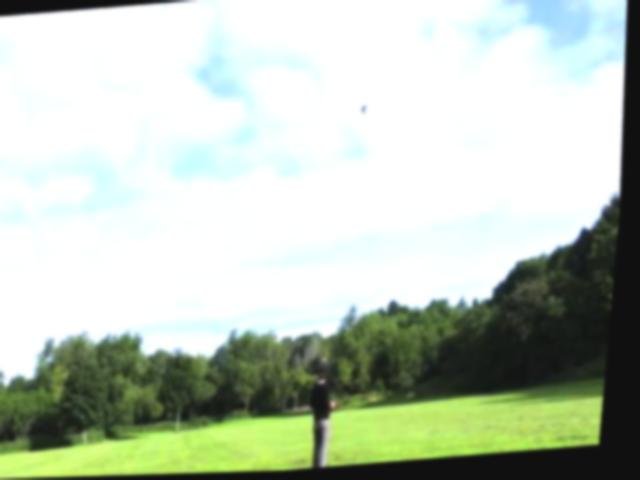flying wing: (362, 106, 370, 119)
